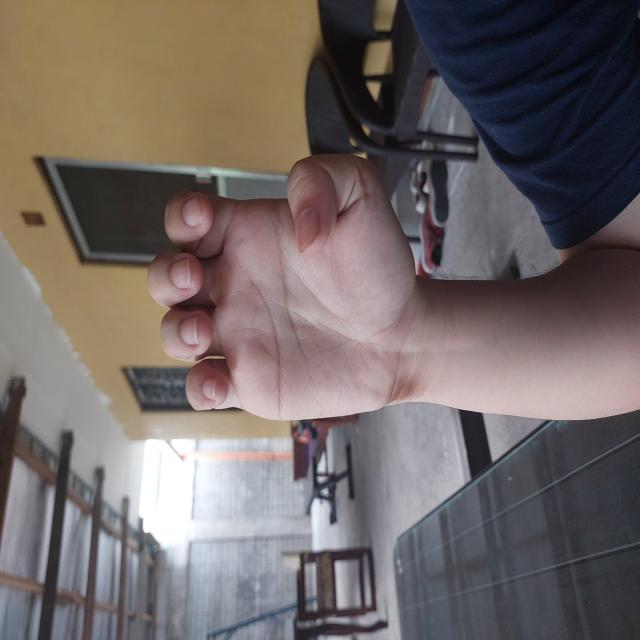E: (213, 142, 490, 419)
